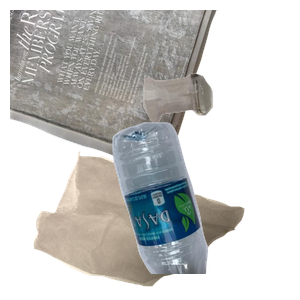glass: (141, 71, 300, 187)
paper: (10, 10, 222, 176)
plastic: (110, 120, 300, 300)
trash: (31, 149, 268, 300)
